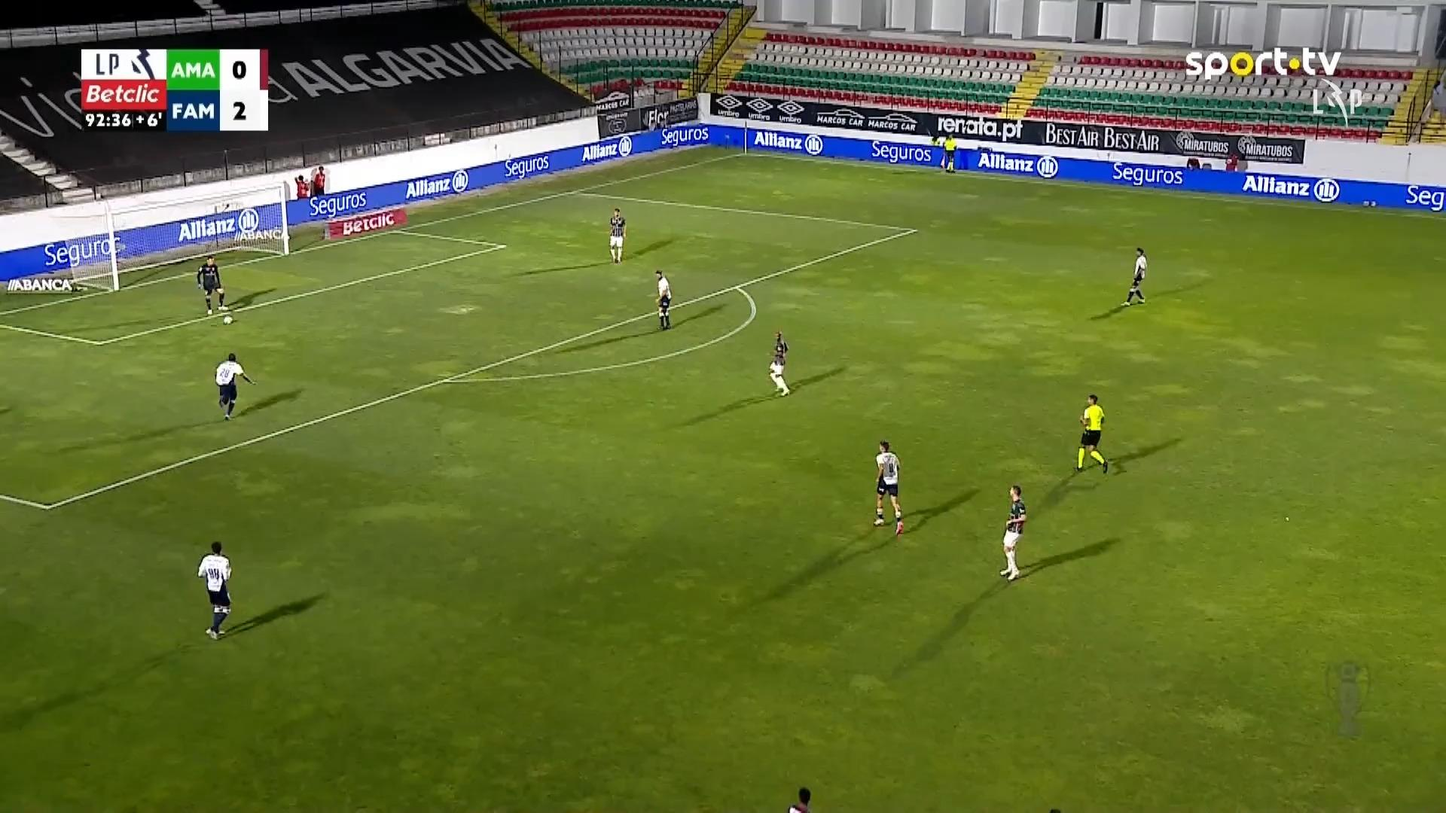ball: (223, 315, 232, 324)
goalkeeper: (195, 255, 226, 315)
player: (197, 540, 233, 640), (872, 440, 904, 532), (214, 352, 255, 421), (998, 483, 1027, 580), (767, 329, 790, 397), (1121, 246, 1147, 306), (654, 269, 672, 330), (608, 207, 627, 263), (786, 786, 811, 811)
referee: (1073, 393, 1109, 473), (938, 132, 957, 172)
